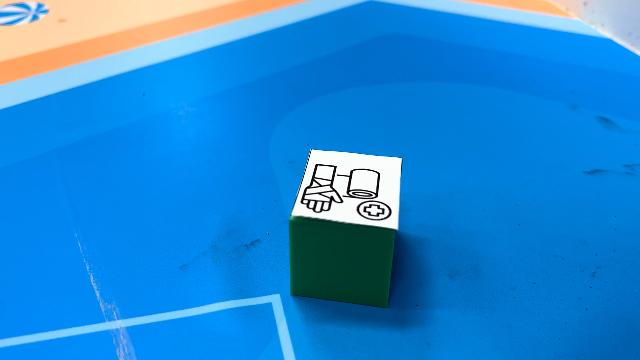bandage: (288, 148, 402, 308)
